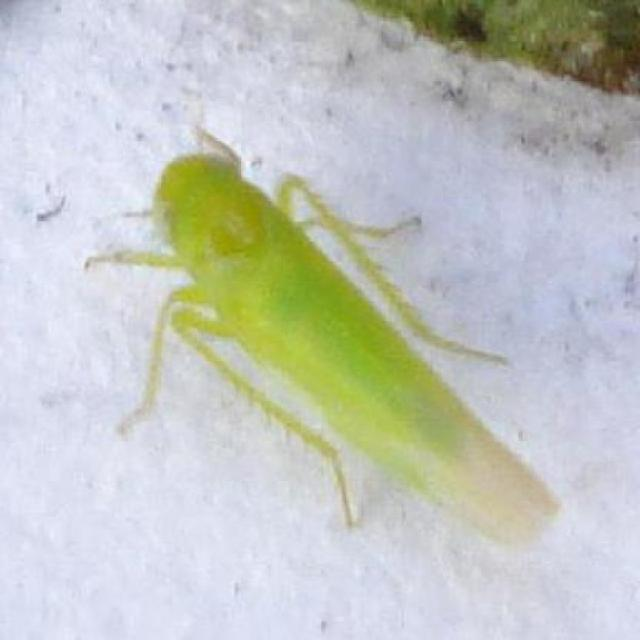green-leafhopper: (163, 152, 549, 539)
